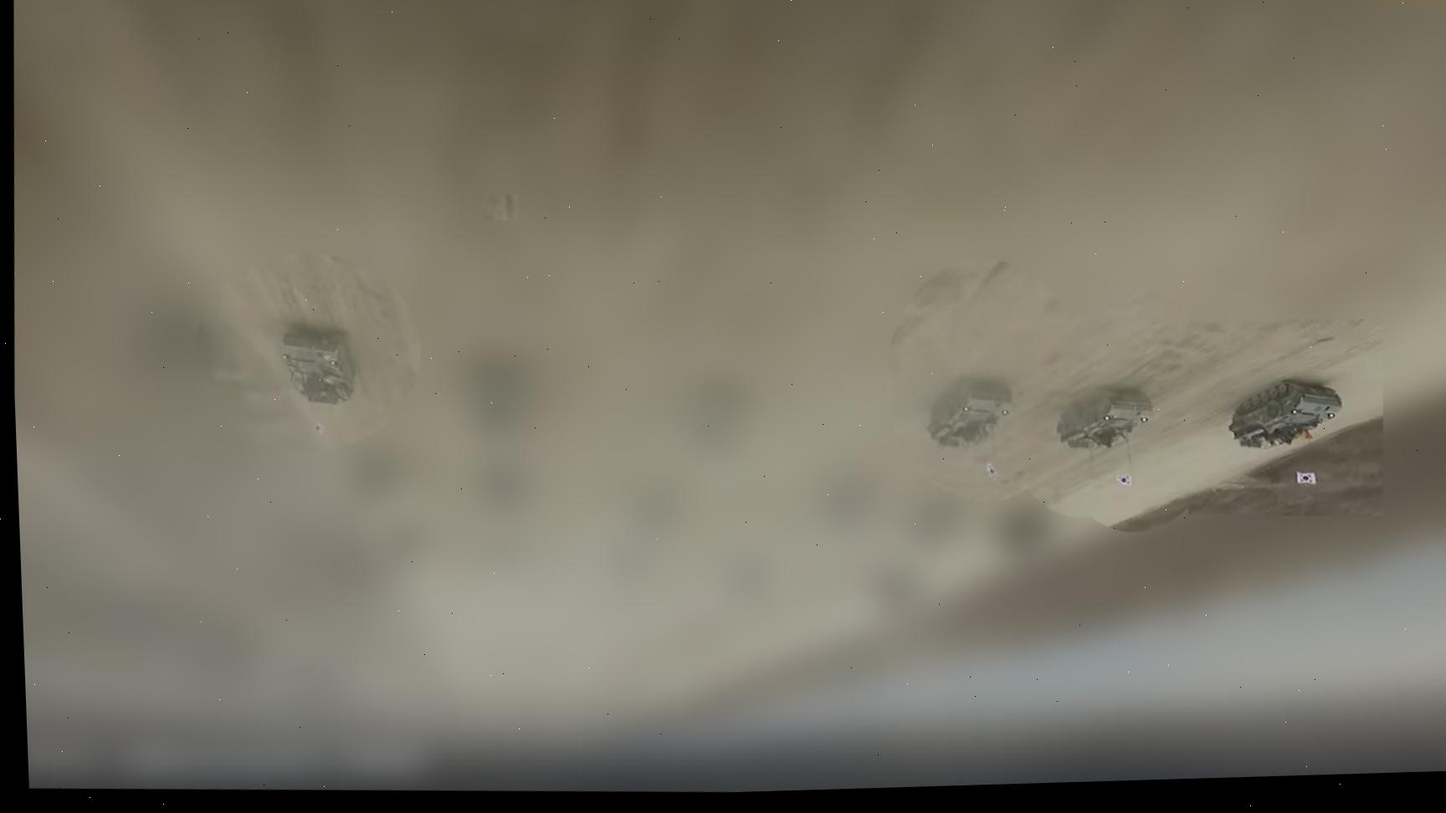tank: (1226, 376, 1349, 453), (1054, 386, 1159, 454), (924, 377, 1019, 450)
